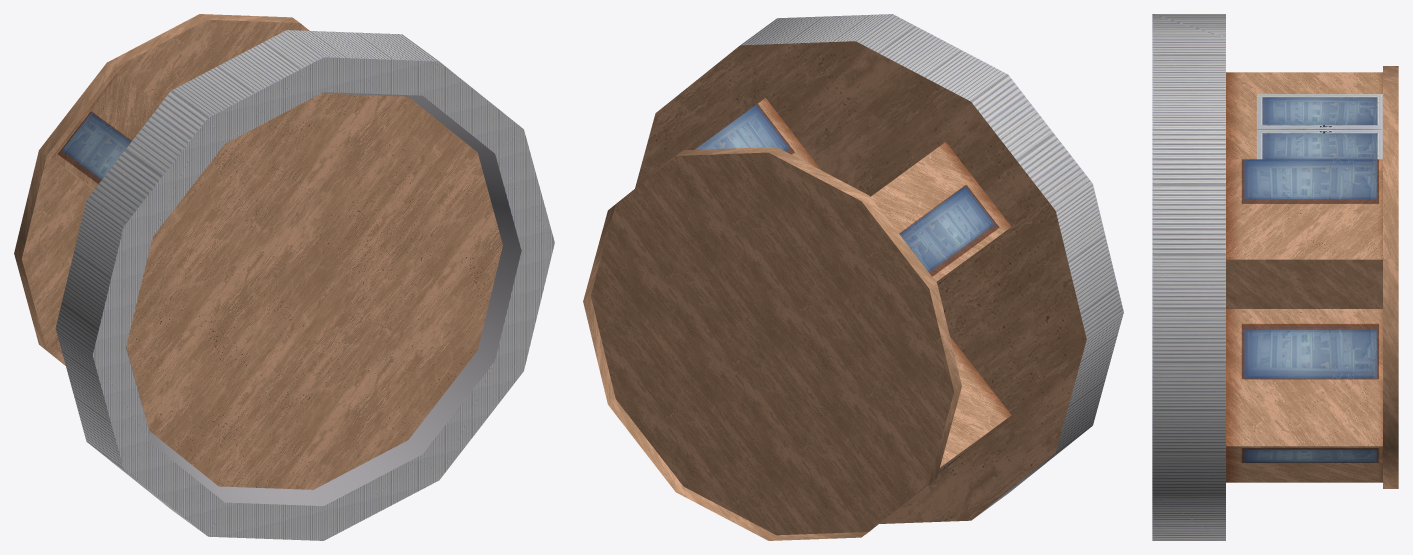
The model's file is YDH_01.gltf.
3 renders of one model, left to right at view 1: azimuth 30°, elevation 25°; view 2: azimuth 150°, elevation 25°; view 3: azimuth 270°, elevation 25°, orthographic.
Size of the model in its own units: 14.37 by 14.37 by 6.69.
4 materials, 4 textured.
